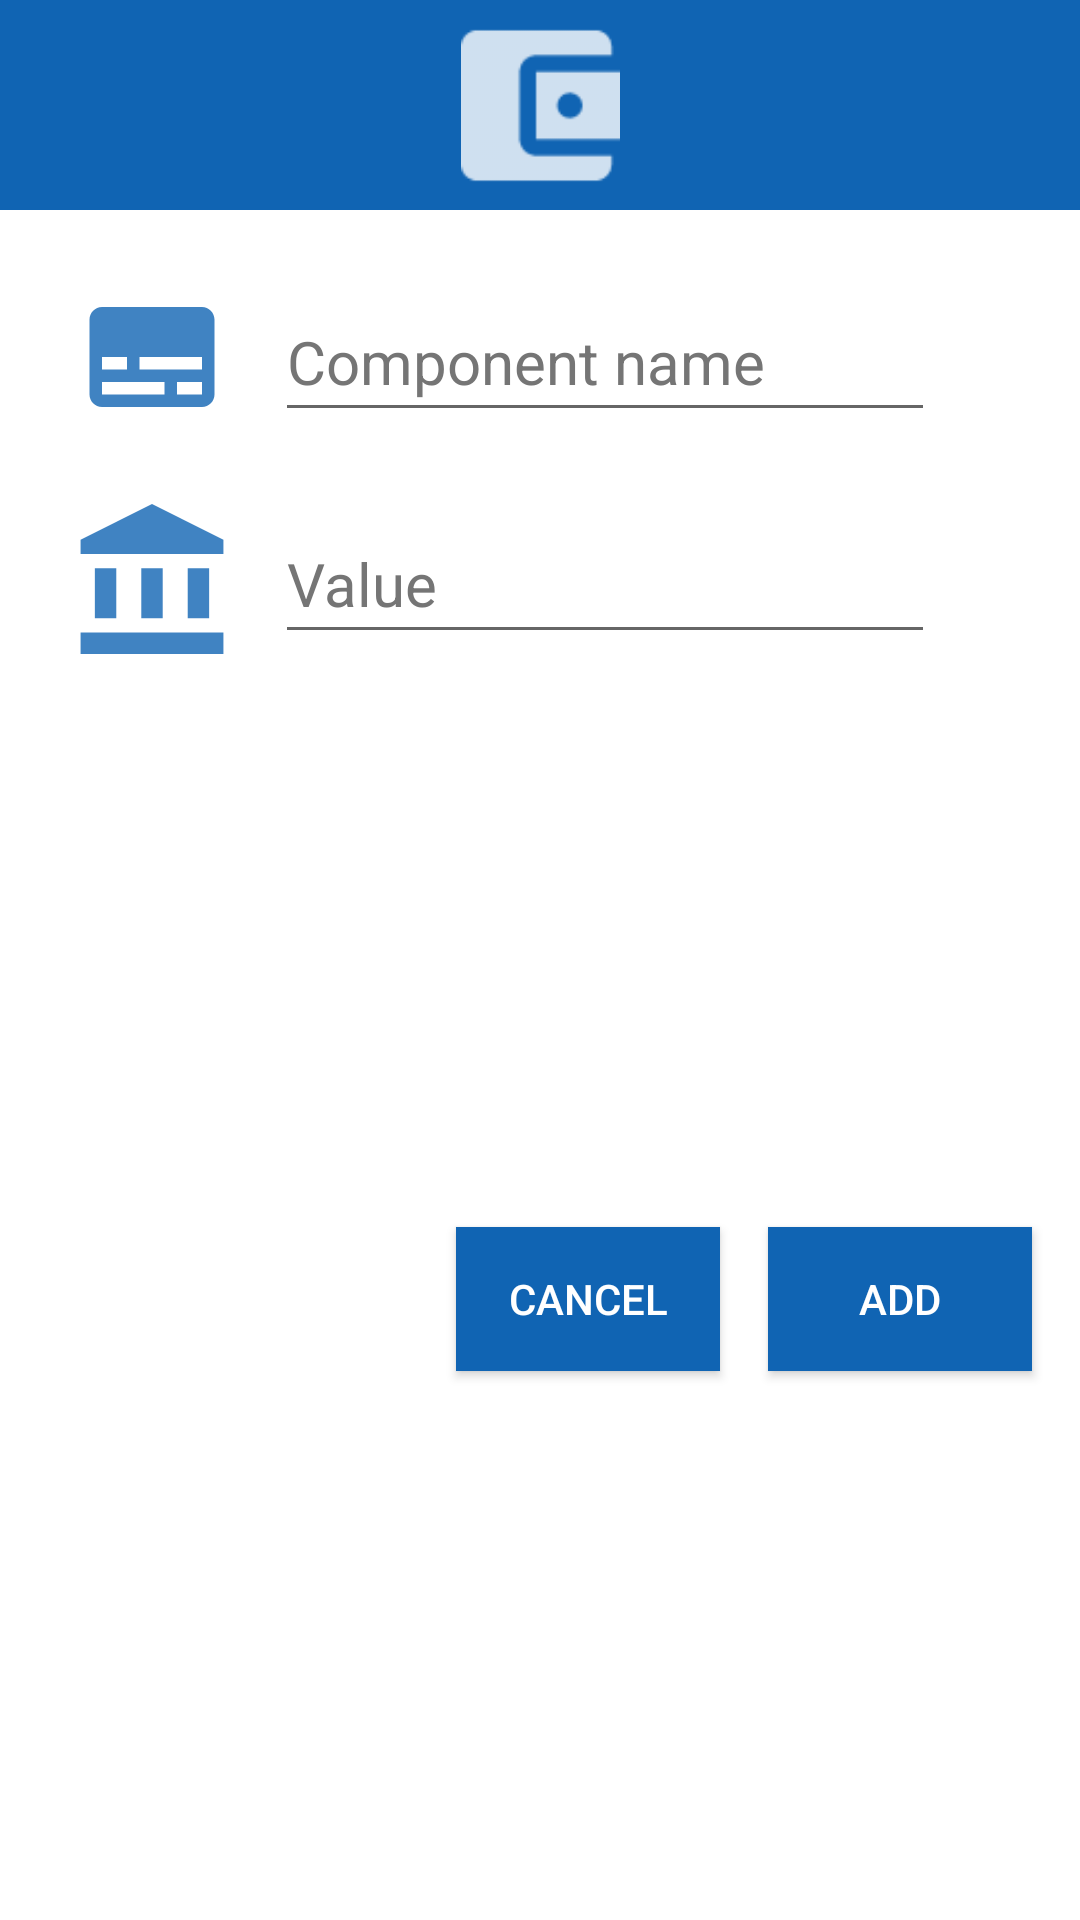

Named icons in this screenshot (1080px x 1920px) and their centers, (x,y):
wallet cv: (540,105)
